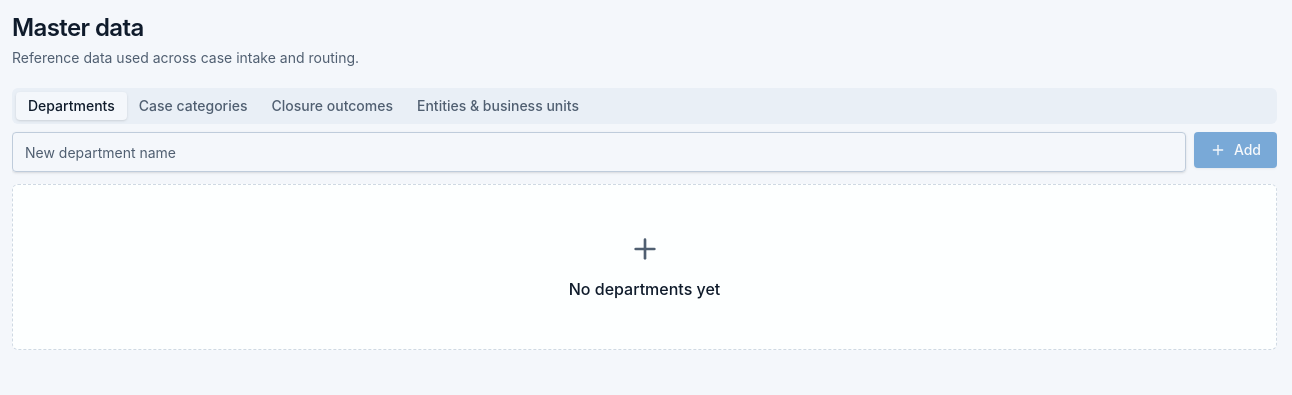
Test case: MasterDataPage › a 409 duplicate name shows an inline error
The width and height of the screenshot is (1292, 395).
Expected: the text "No departments yet" is shown, [569,277,720,301]
Type "Finance" into the field with placeholder "New department name" at {"x": 599, "y": 152}, box [12,132,1186,172]
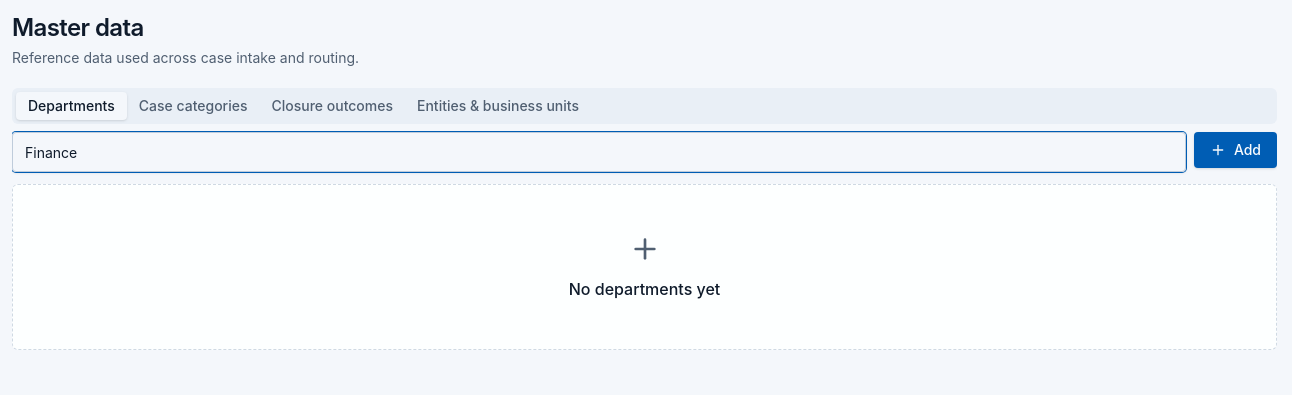
Click the button "Add" at {"x": 1235, "y": 150}, box [1194,132,1277,168]
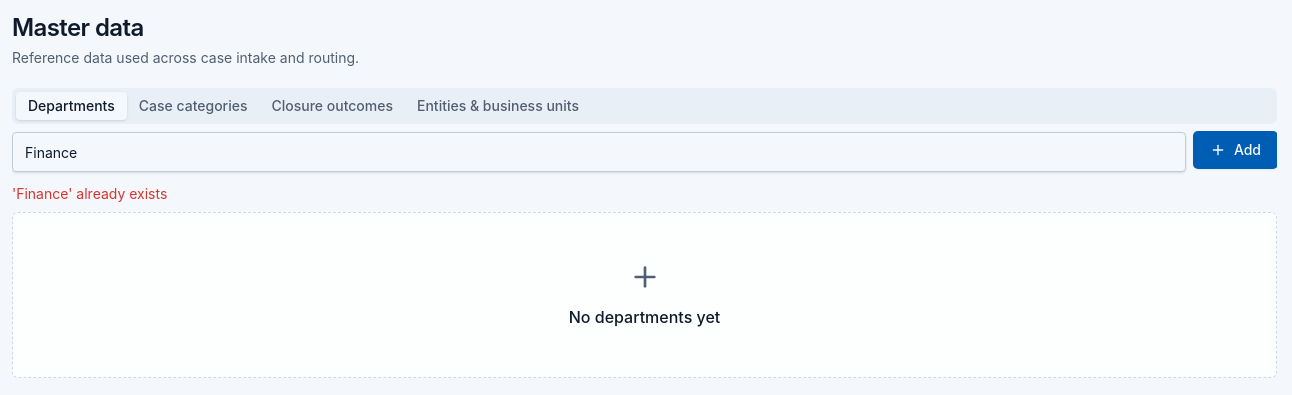
Expected: the text "'Finance' already exists" is shown, [12,185,167,202]
